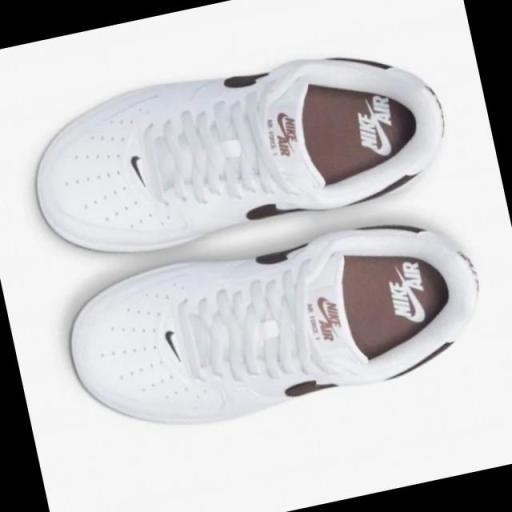Nike: (124, 152, 147, 190), (324, 300, 341, 328)
